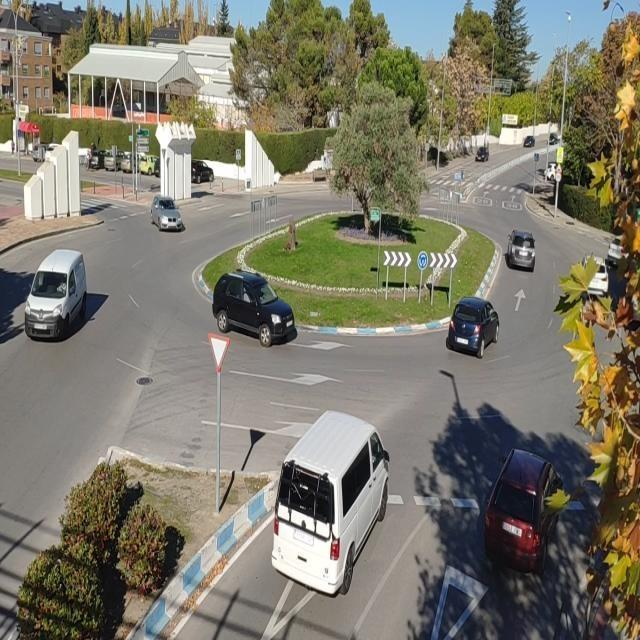Car: (482, 448, 564, 574), (212, 270, 298, 346), (446, 296, 500, 357), (149, 194, 183, 232), (506, 229, 536, 271), (580, 255, 608, 297), (103, 149, 129, 172), (190, 160, 214, 183), (605, 240, 624, 268), (137, 154, 159, 176), (119, 151, 141, 173), (88, 150, 109, 170), (544, 162, 562, 182), (77, 148, 92, 164), (475, 147, 489, 162), (126, 152, 146, 160), (523, 136, 535, 148), (192, 160, 208, 169), (548, 134, 560, 145), (91, 149, 107, 157), (191, 166, 197, 182), (115, 150, 127, 158), (46, 144, 58, 150)
Van: (268, 412, 388, 594), (24, 249, 87, 339)
